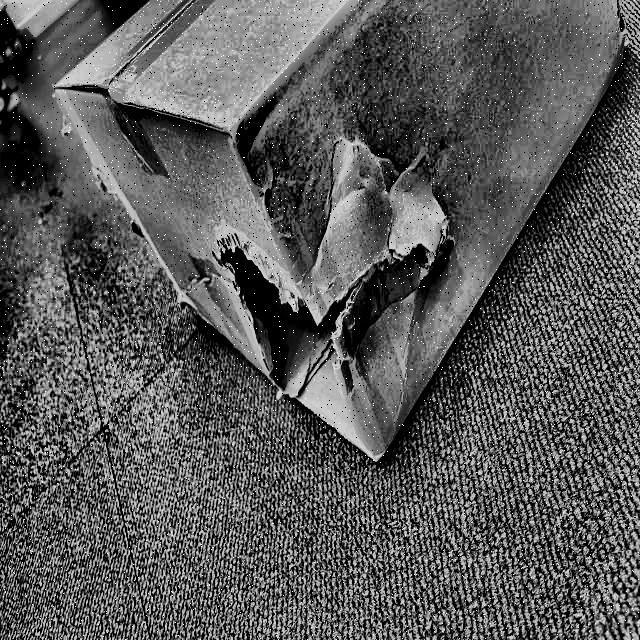box: (44, 0, 635, 478)
hole: (220, 235, 430, 367)
